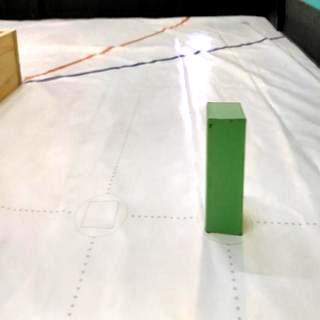greenbox: (204, 100, 246, 236)
